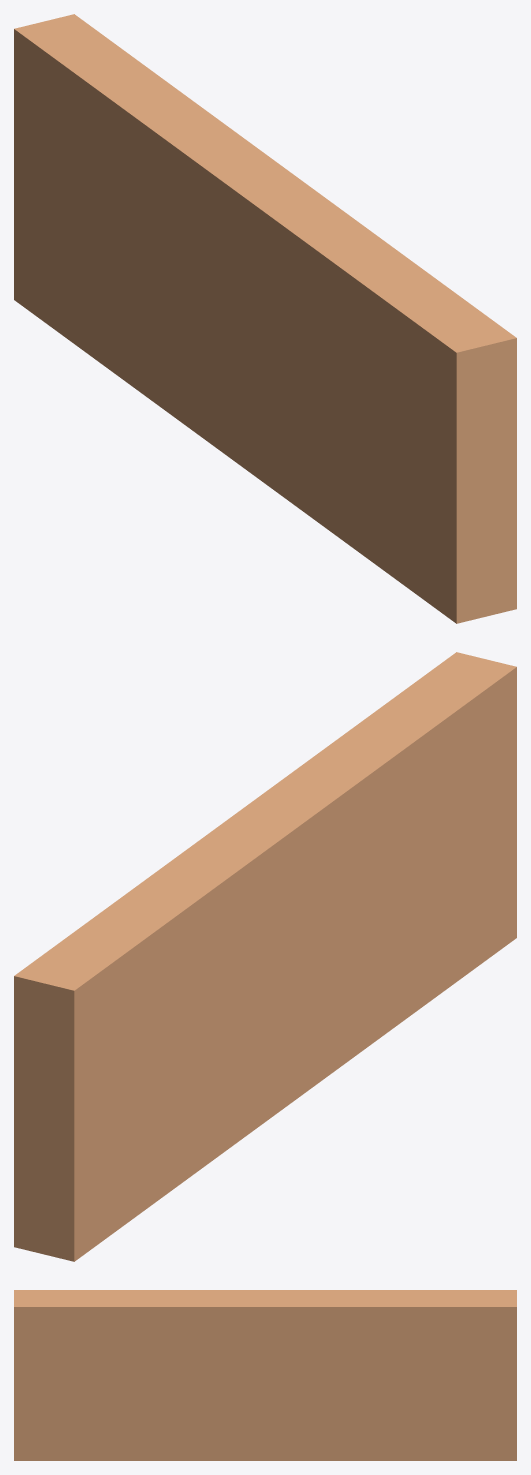
Rendered from Wall5.fbx.
The picture shows the model from 3 angles, top to bottom: view 1: azimuth 30°, elevation 25°; view 2: azimuth 150°, elevation 25°; view 3: azimuth 270°, elevation 25°; orthographic projection. The views are drawn at different scales.
Visible parts, largest first — view 1: Box004; view 2: Box004; view 3: Box004.
Boxes of the visible parts, x1,y1,x2,y2 form: Box004: [14, 14, 516, 623]; Box004: [14, 652, 516, 1261]; Box004: [14, 1290, 516, 1460].
Size of the model in its own units: 0.5832 by 2.5 by 7.4.
